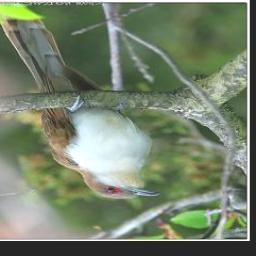Cuckoo: (0, 5, 163, 200)
